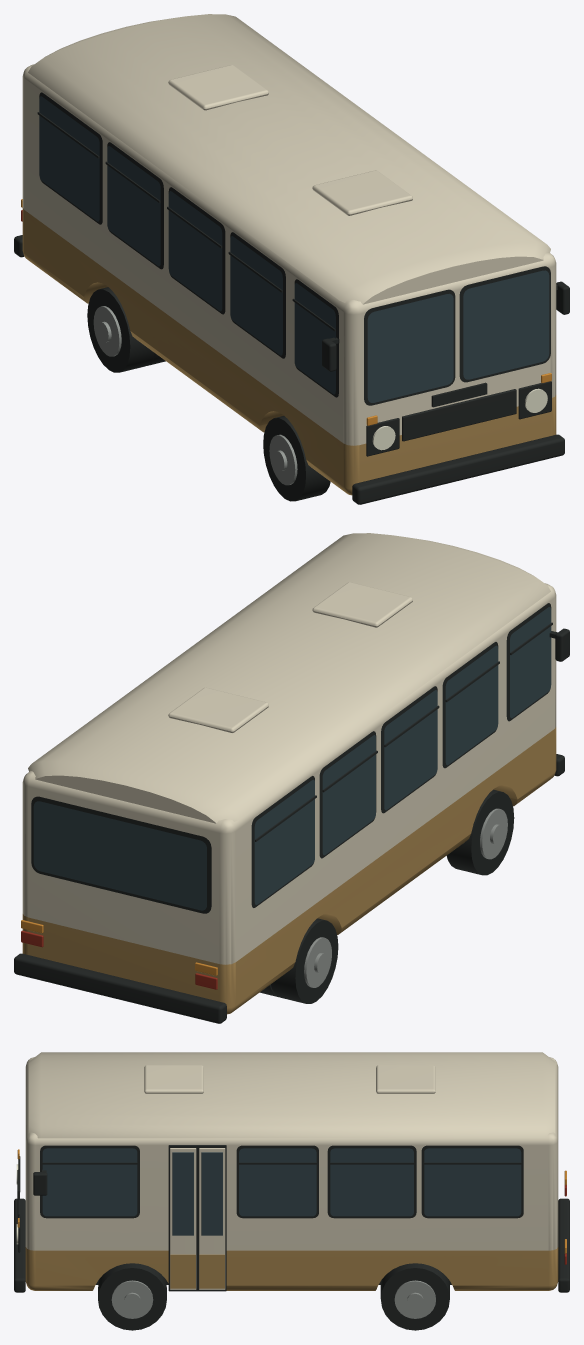
The model's file is PAZ_3205.glb.
3 views of the same model, one above another, from view 1: azimuth 30°, elevation 25°; view 2: azimuth 150°, elevation 25°; view 3: azimuth 270°, elevation 25° (orthographic). The views are drawn at different scales.
Parts seen in each view (by area): view 1: PAZ_3205_game; view 2: PAZ_3205_game; view 3: PAZ_3205_game.
Boxes of the visible parts, <box> form: PAZ_3205_game: <box>14,14,569,504</box>; PAZ_3205_game: <box>14,533,569,1023</box>; PAZ_3205_game: <box>14,1052,569,1330</box>.
Bounding box in the file's own units: 2.85 × 2.98 × 7.08.
